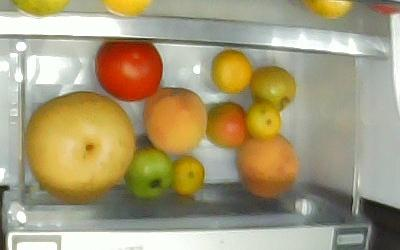peach: (142, 86, 208, 154), (234, 131, 297, 198)
pear: (24, 90, 135, 202)
tangerine: (210, 49, 252, 94), (169, 154, 204, 196), (244, 100, 281, 139)
tomato: (93, 40, 163, 101), (123, 145, 174, 199), (204, 100, 252, 149), (248, 64, 296, 111)
